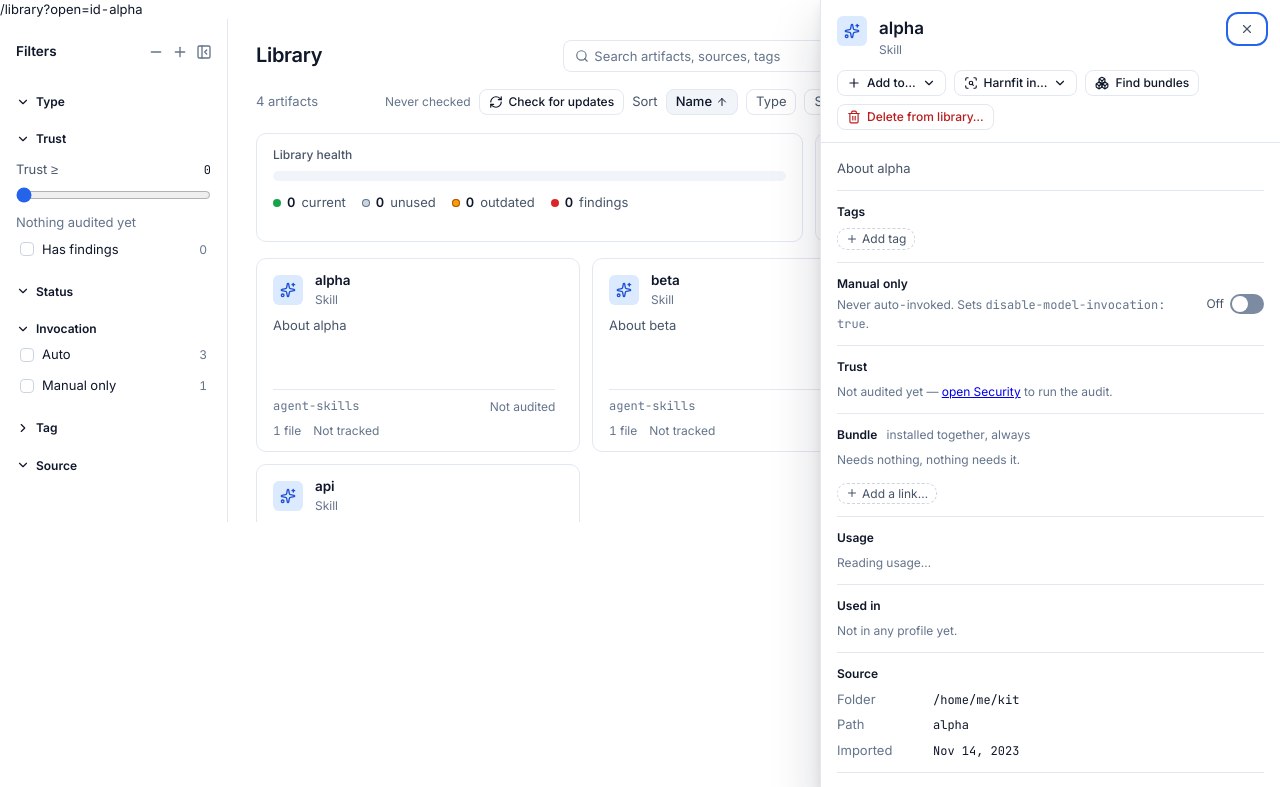
Test: Manual only › toggles on and off with the prototype's messages
Click the switch named "Manual only" at coordinates (1247, 304), box [1230,294,1264,314]
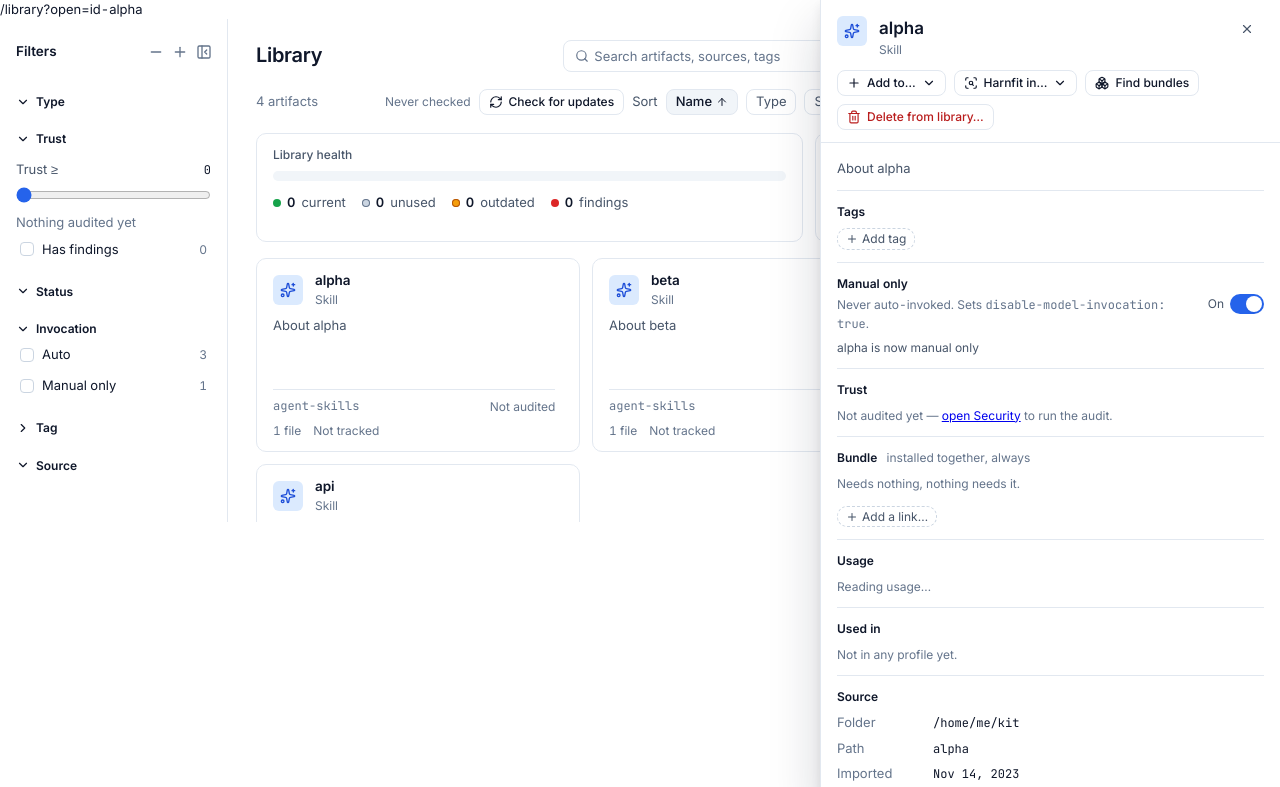
Expected: the message reads "alpha is now manual only", [837,340,979,355]
Click the switch named "Manual only" at coordinates (1247, 304), box [1230,294,1264,314]
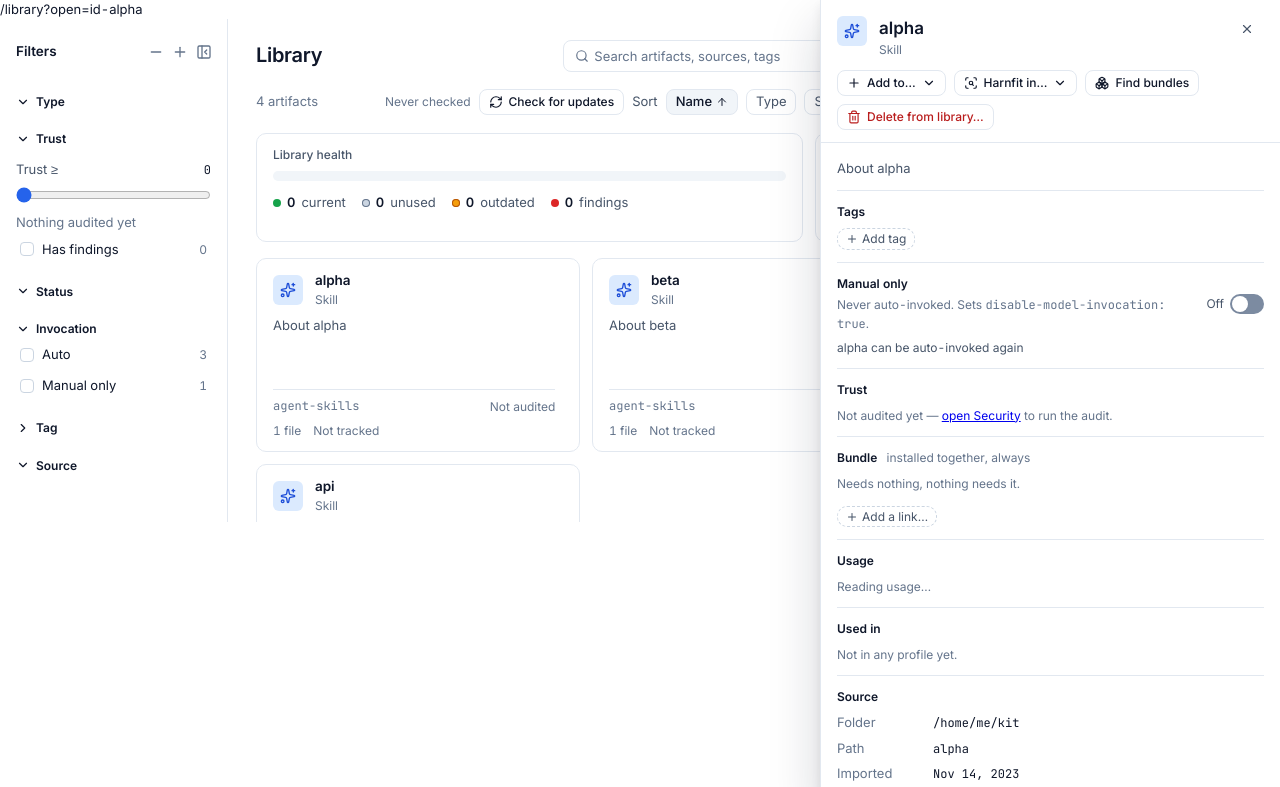
Expected: the message reads "alpha can be auto-invoked again", [837,340,1024,355]
